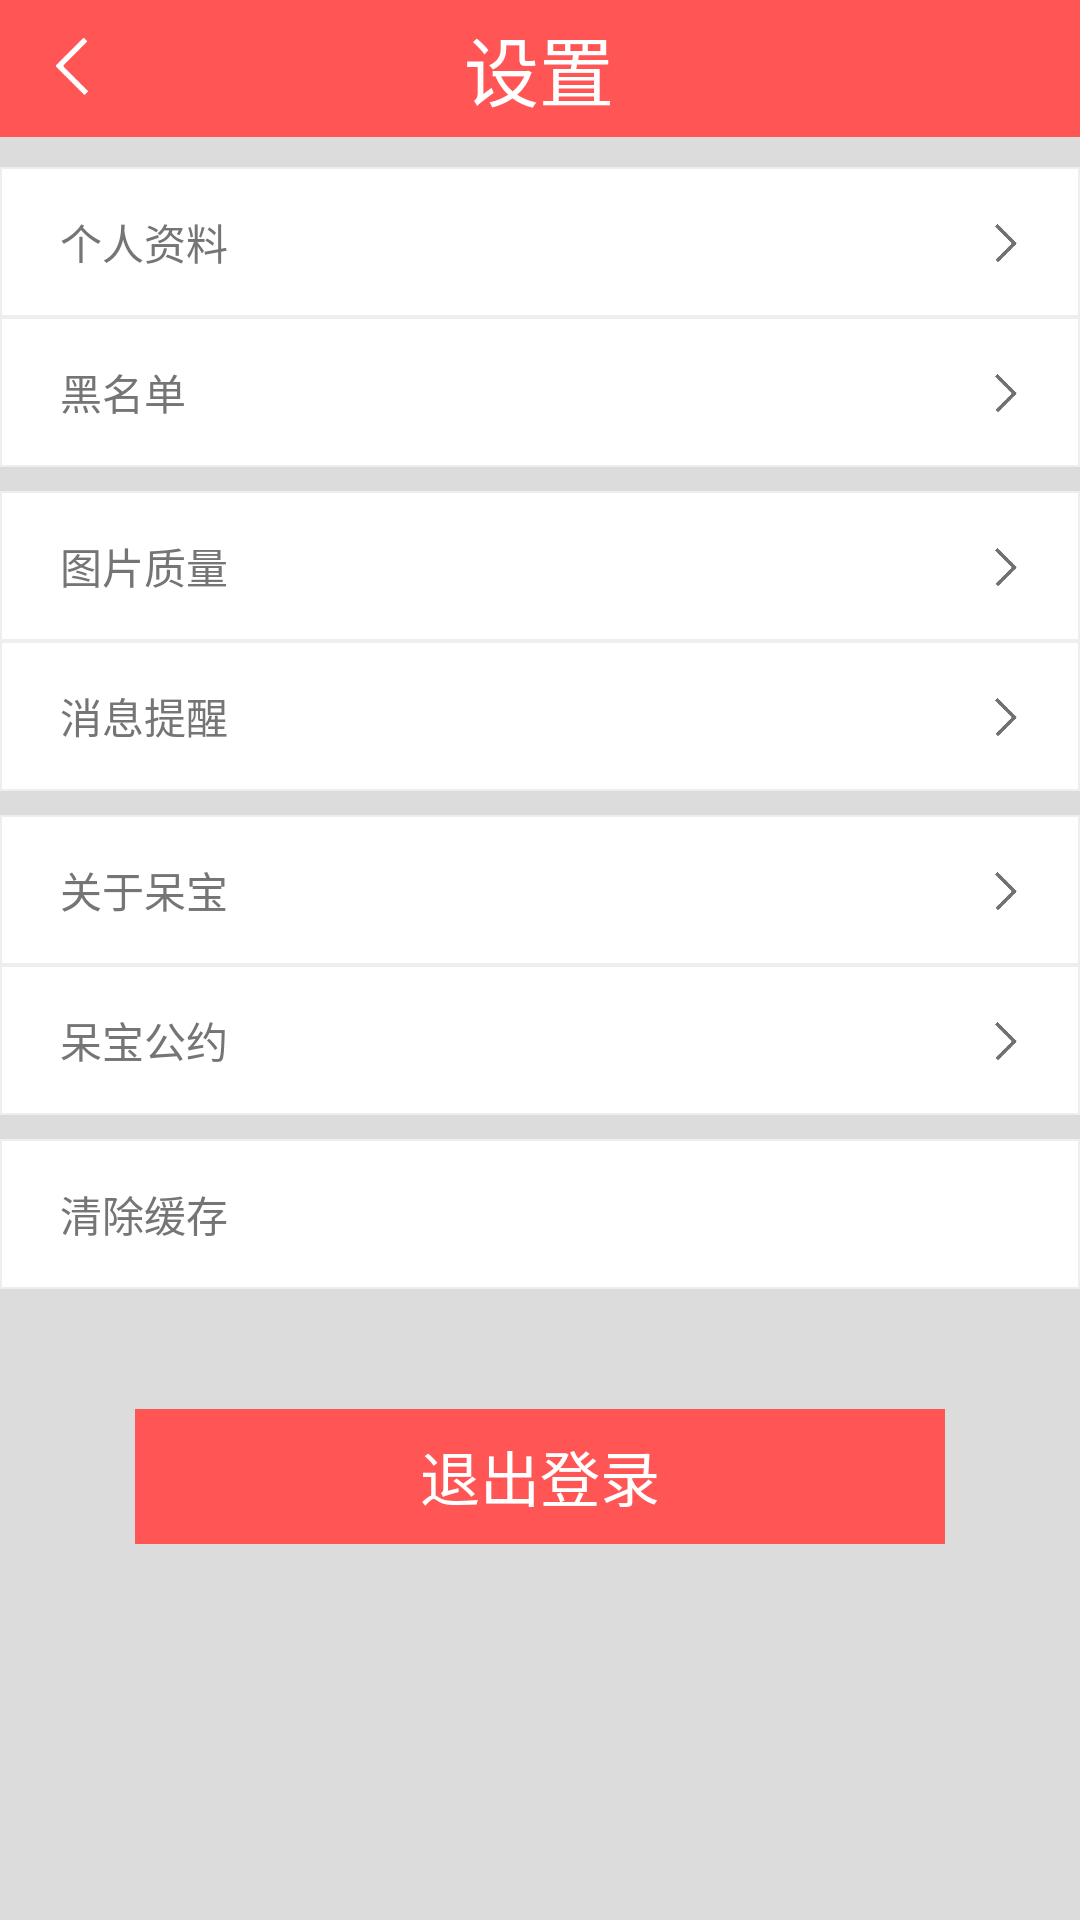

Icons on this 1080w x 1920h Android screen, each with its box as BBox(x1, y1, x2, y2):
jiantou: BBox(995, 224, 1017, 262), BBox(995, 374, 1017, 412), BBox(995, 548, 1017, 586), BBox(995, 698, 1017, 736), BBox(995, 872, 1017, 910), BBox(995, 1022, 1017, 1060)
jiantou left: BBox(56, 38, 88, 95)
